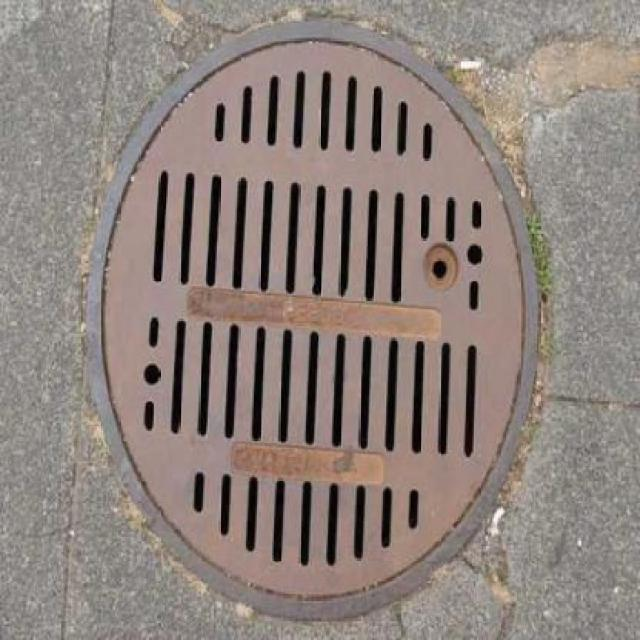Manhole: (82, 14, 542, 624)
